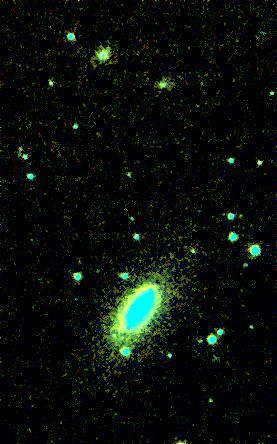star: (108, 189, 138, 219)
